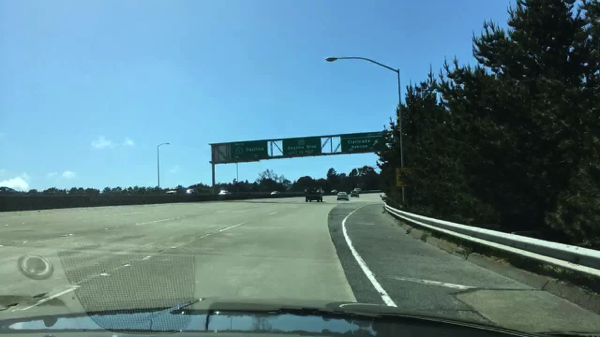car: (305, 186, 323, 204), (337, 192, 349, 201), (186, 188, 199, 195), (330, 188, 338, 195), (350, 190, 358, 197), (219, 190, 229, 195), (272, 191, 279, 195), (354, 188, 360, 192)
traffic sign: (341, 132, 387, 154), (281, 137, 322, 156), (231, 141, 268, 160), (395, 167, 418, 187)
truck: (166, 189, 187, 196)
